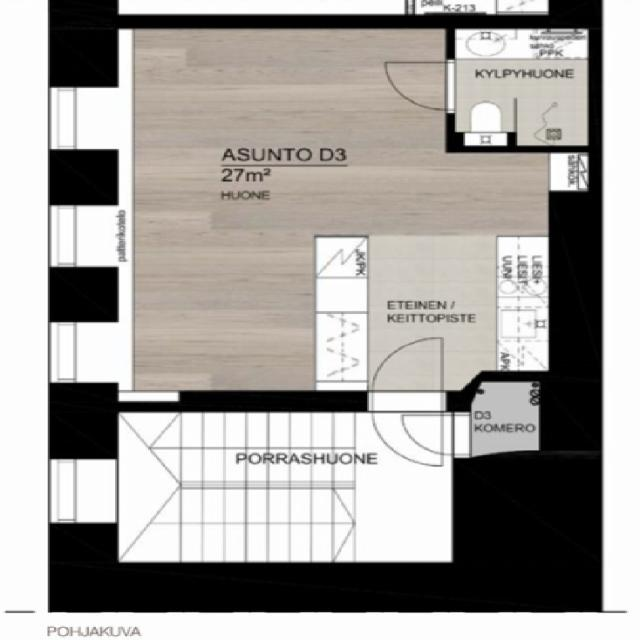door: (376, 340, 442, 412), (376, 392, 442, 464), (388, 64, 455, 110)
